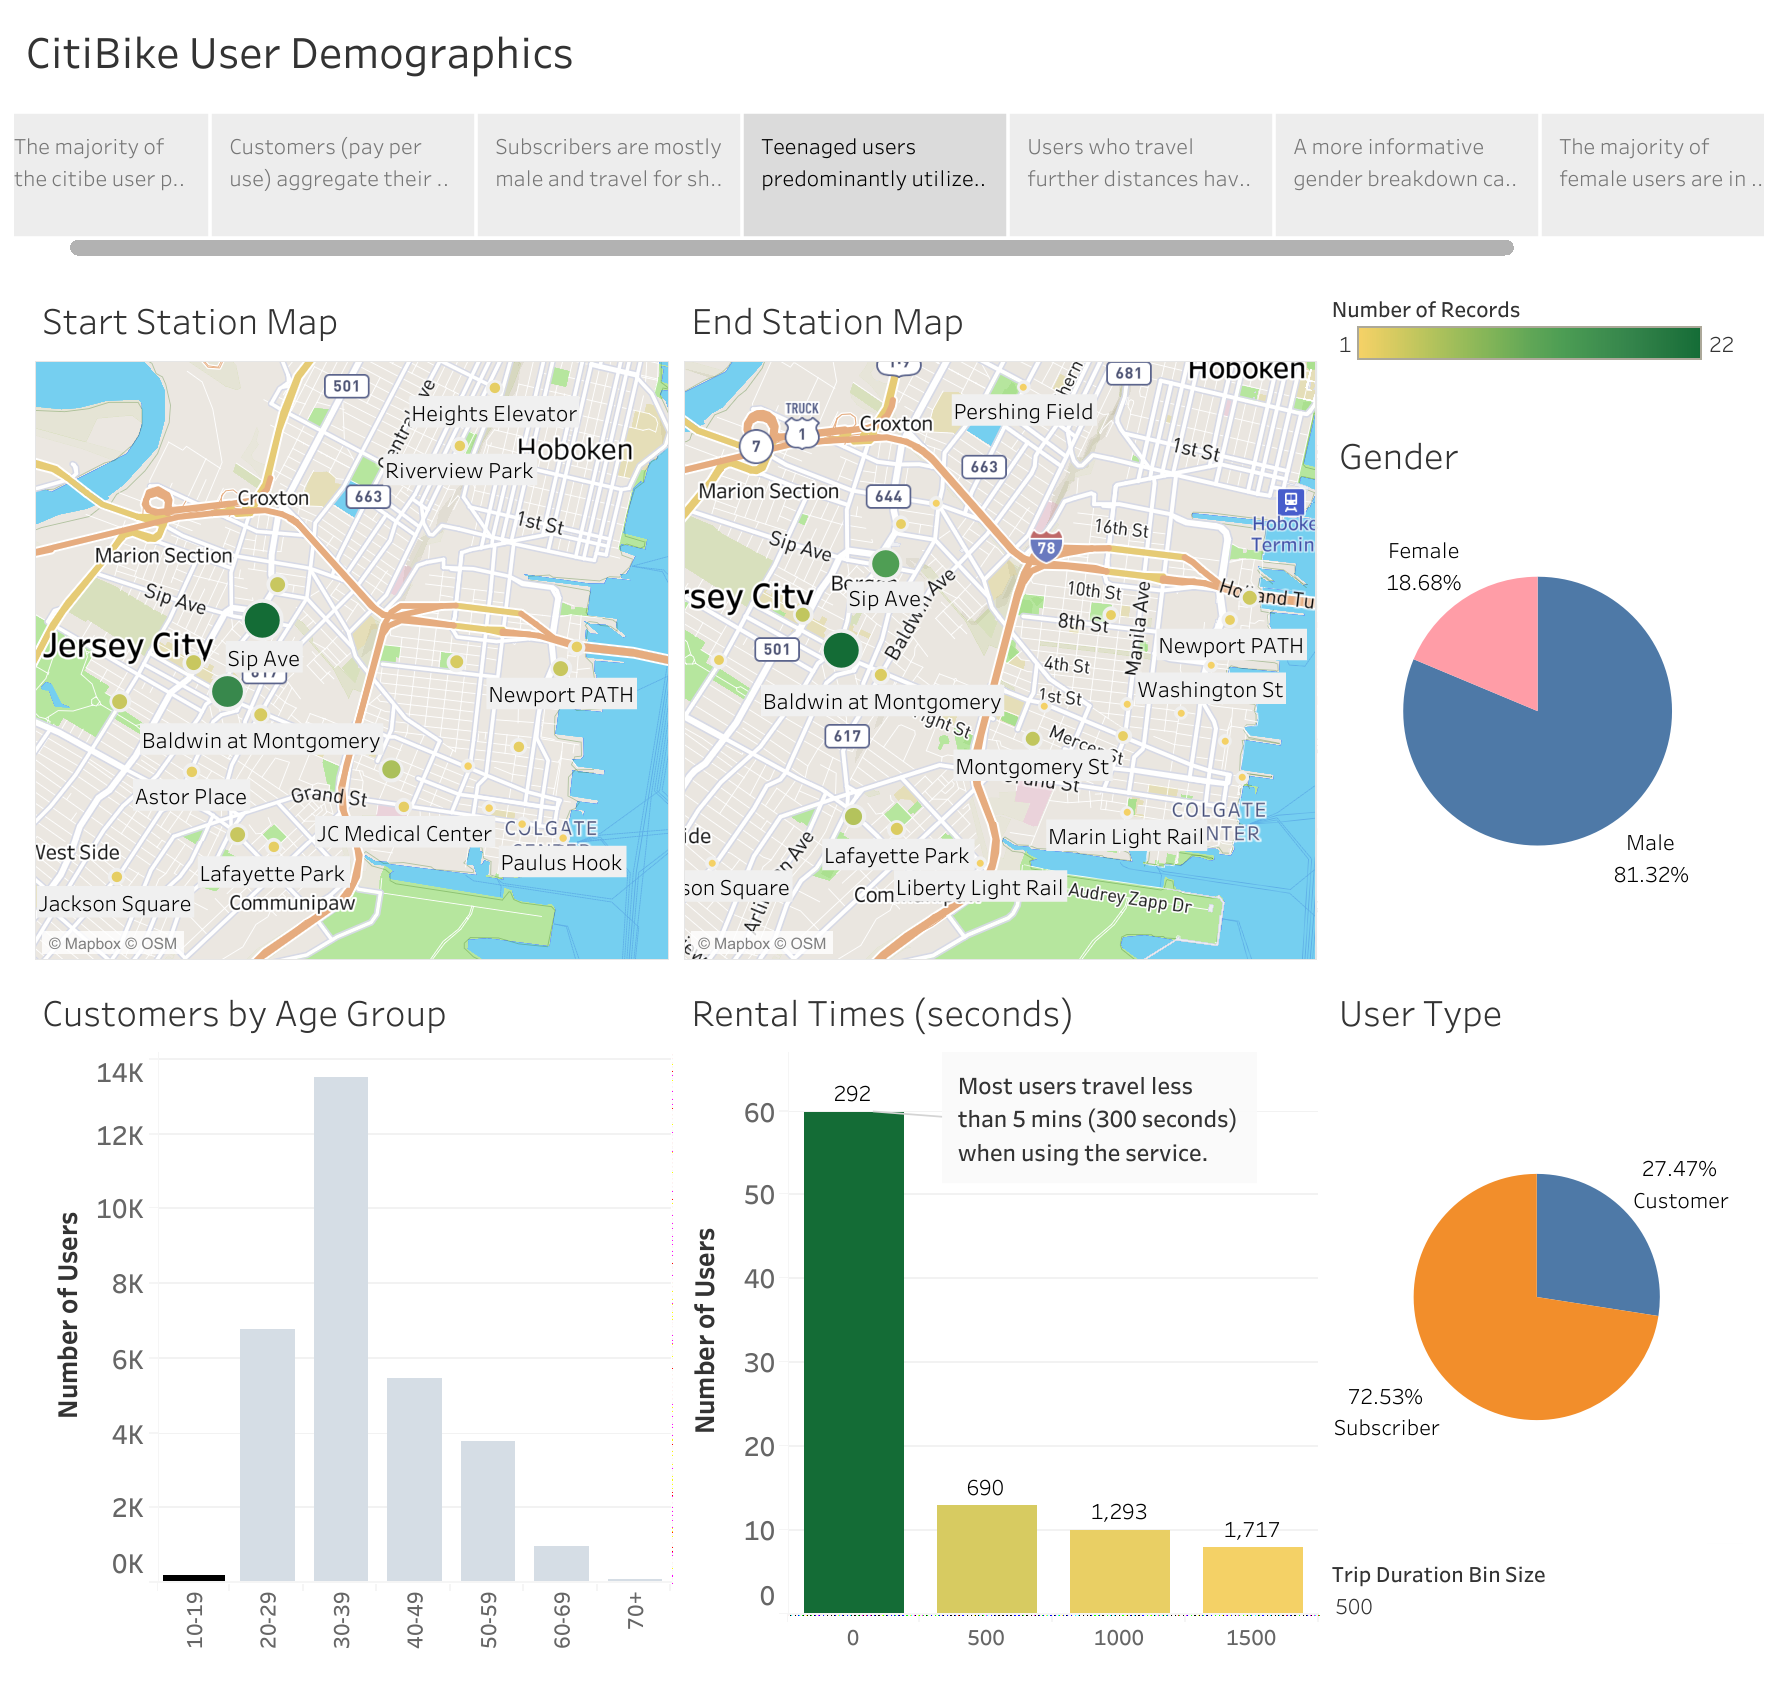

The dashboard page shown, as its layout file describes it:
{"tool":"tableau","page":{"name":"Station DB","canvas":[1000,1000],"units":"permille","ordinal":2},"visuals":[{"type":"worksheet","title":"Start Station Map","mark":"Automatic","rows":["start station latitude"],"cols":["start station longitude"],"box":[6.2,9.6,399.5,490.4]},{"type":"worksheet","title":"End Station Map","mark":"Automatic","rows":["end station latitude"],"cols":["end station longitude"],"box":[405.7,9.6,399.5,490.4]},{"type":"legend","title":"Start Station Map","param":"[federated.1djbkvf0iddfvb16h6xlh0xldu7f].[sum:Number of Records:qk]","box":[805.3,9.6,188.5,92.5]},{"type":"worksheet","title":"Gender","mark":"Pie","box":[805.3,102.2,188.5,358.2]},{"type":"worksheet","title":"Customers by Age Group","mark":"Bar","rows":["Number of Records"],"cols":["Age (bin)"],"box":[6.2,500,399.5,490.4]},{"type":"worksheet","title":"Rental Times","mark":"Automatic","rows":["Number of Records"],"cols":["Tripduration (bin)"],"box":[405.7,500,399.5,490.4]},{"type":"worksheet","title":"User Type","mark":"Pie","box":[805.3,500,188.5,399]},{"type":"parameter","param":"[Parameters].[Parameter 1]","box":[805.3,899,188.5,90.2]}]}

Visuals, with their boxes on the dashboard's canvas, which has no fixed pixel size, in thousandths of its width and height (x1, y1, x2, y2). These are canvas units, not pixel positions in the 1776x1685 screenshot, which may show the page scaled, cropped or inside an application window:
"Start Station Map" worksheet: (6,10,406,500)
"End Station Map" worksheet: (406,10,805,500)
"Start Station Map" legend: (805,10,994,102)
"Gender" worksheet (Pie marks): (805,102,994,460)
"Customers by Age Group" worksheet (Bar marks): (6,500,406,990)
"Rental Times" worksheet: (406,500,805,990)
"User Type" worksheet (Pie marks): (805,500,994,899)
parameter: (805,899,994,989)
